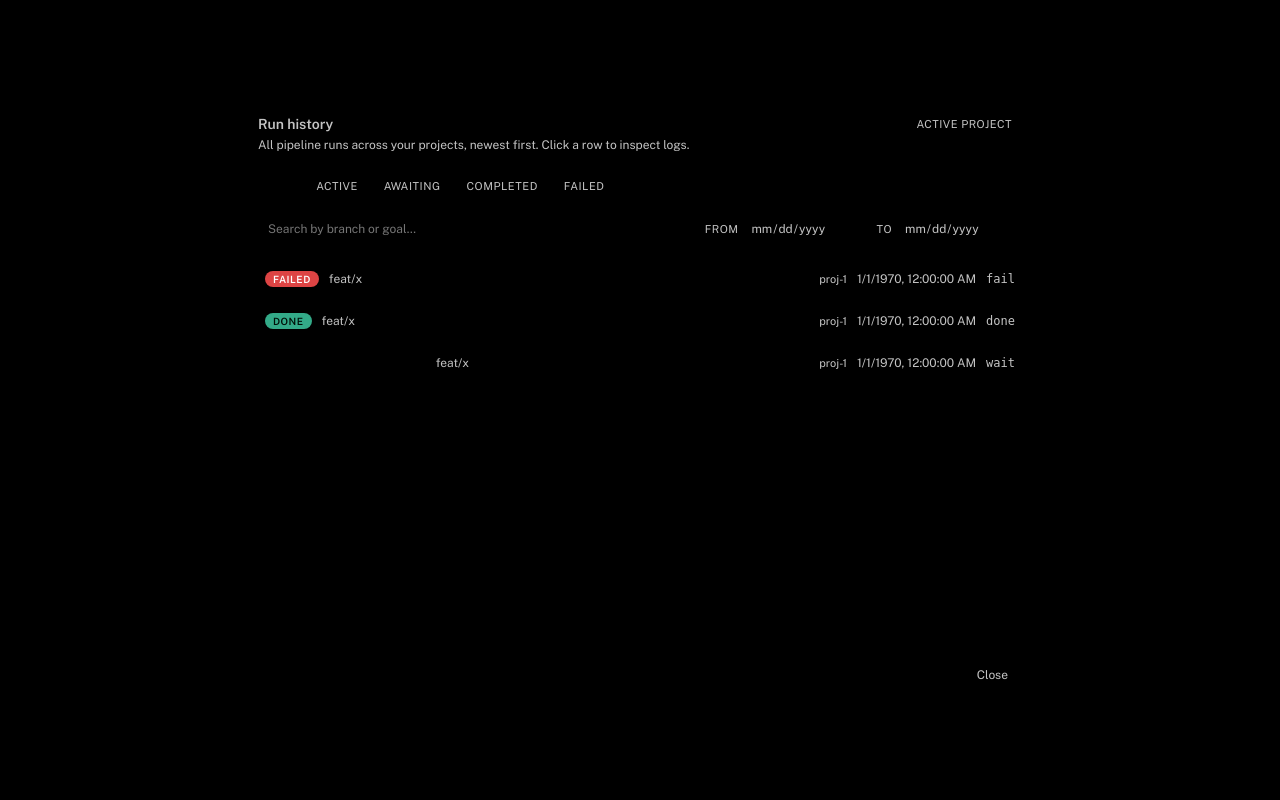
Test: RunHistoryPanel › filters to only awaiting runs when the Awaiting chip is toggled on
Click the button with test id "run-history-filter-awaiting". click: (412, 186)
box: [374,176,450,196]
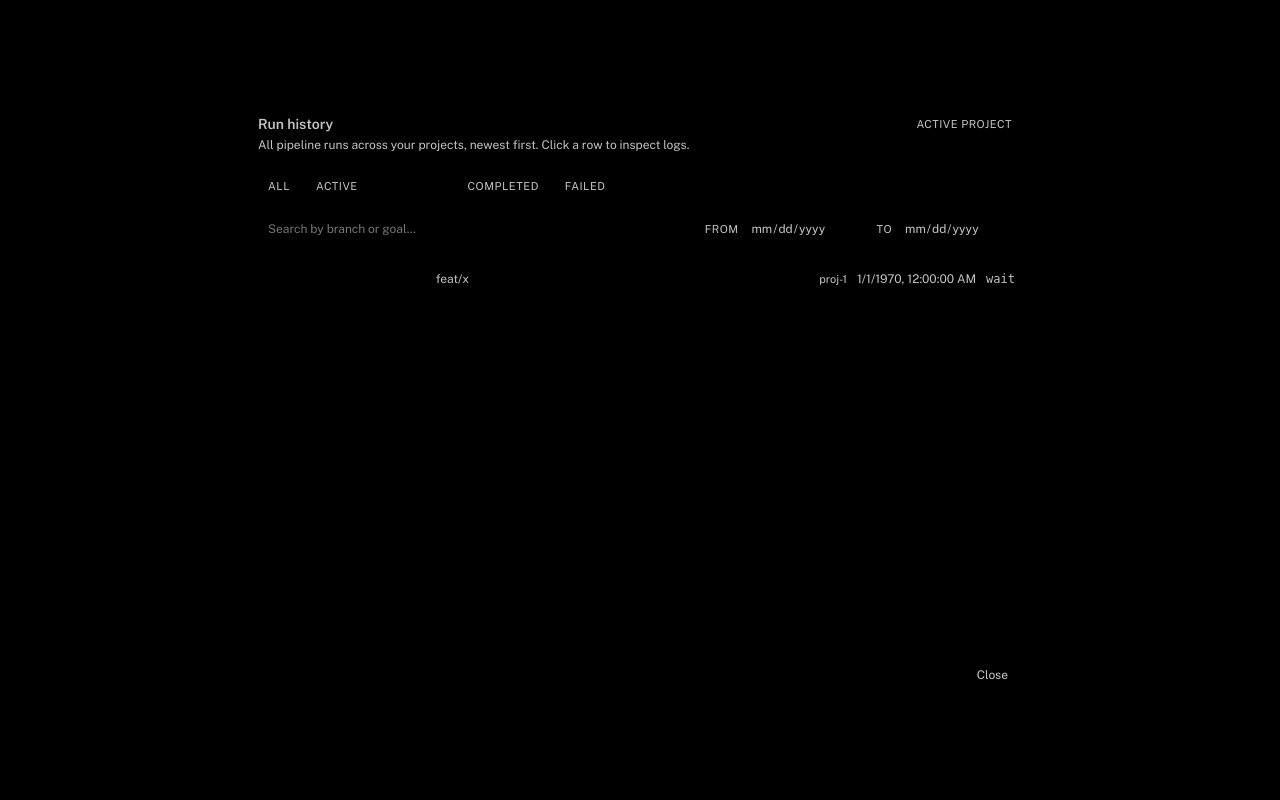
Check: the number of buttons with test id "run-history-row" is 1, box [252,260,1028,298]
